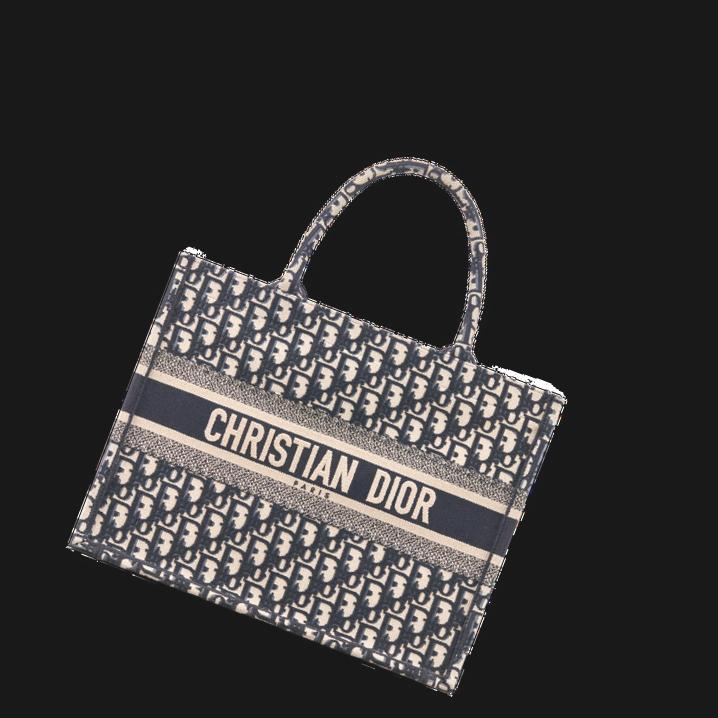DIOR: (182, 378, 459, 550)
